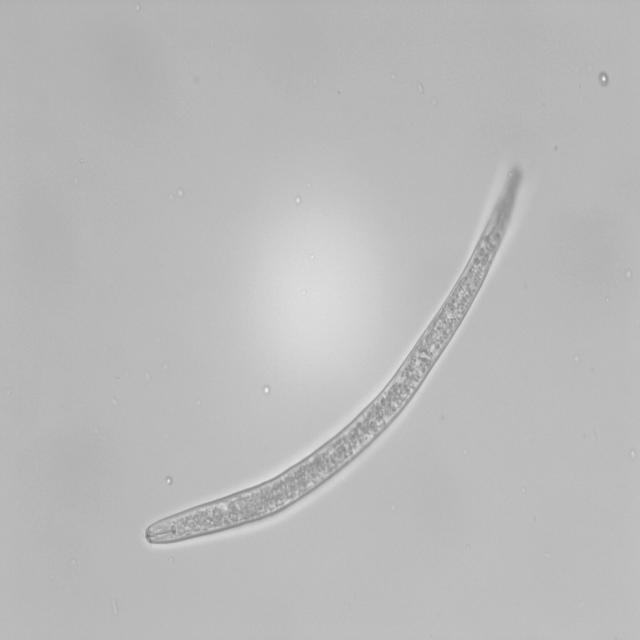Pratylenchus: (138, 162, 538, 552)
